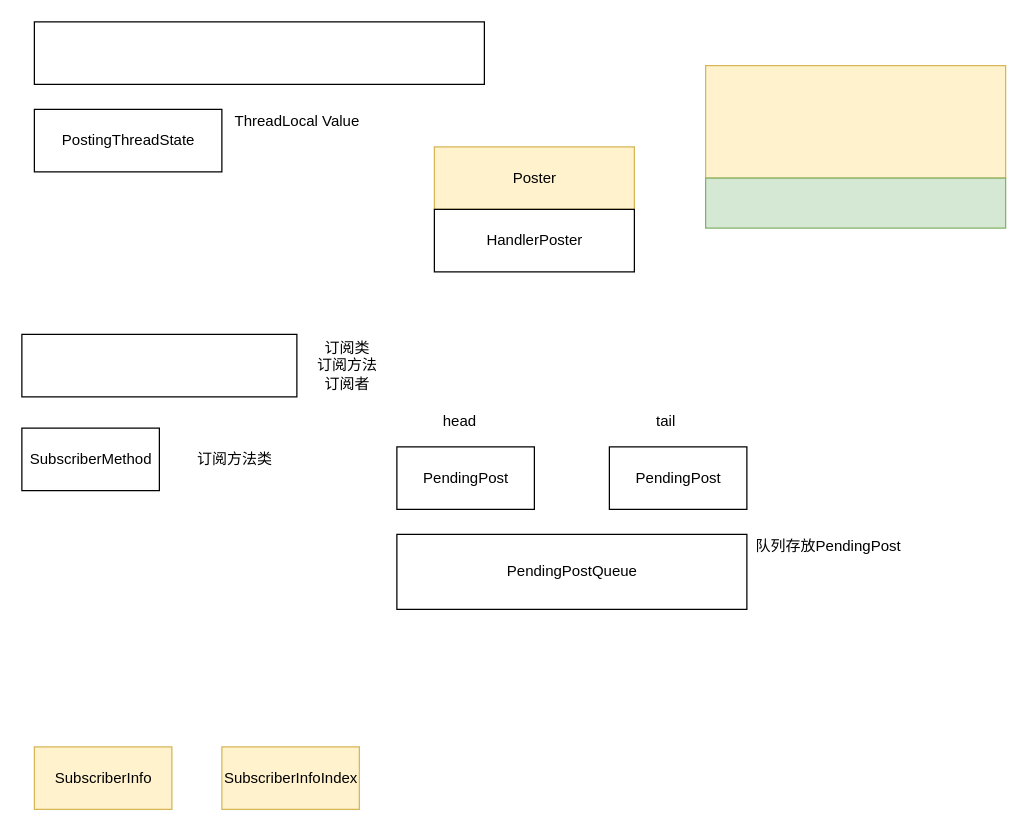
Some shapes in this 1028 by 831 pixel diagram are drawn without their labels. The shapes that lost their labels are listed below. From the top down, each one's centre as x and y in pixels, then its label:
At (258,52): "EventBus".
At (855,121): "MainThreadSupport".
At (855,202): "AndroidHandlerMainThreadSupport".
At (159,365): "Subscription".
